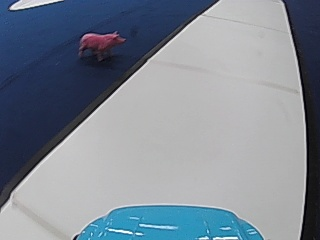pig: (76, 27, 125, 63)
